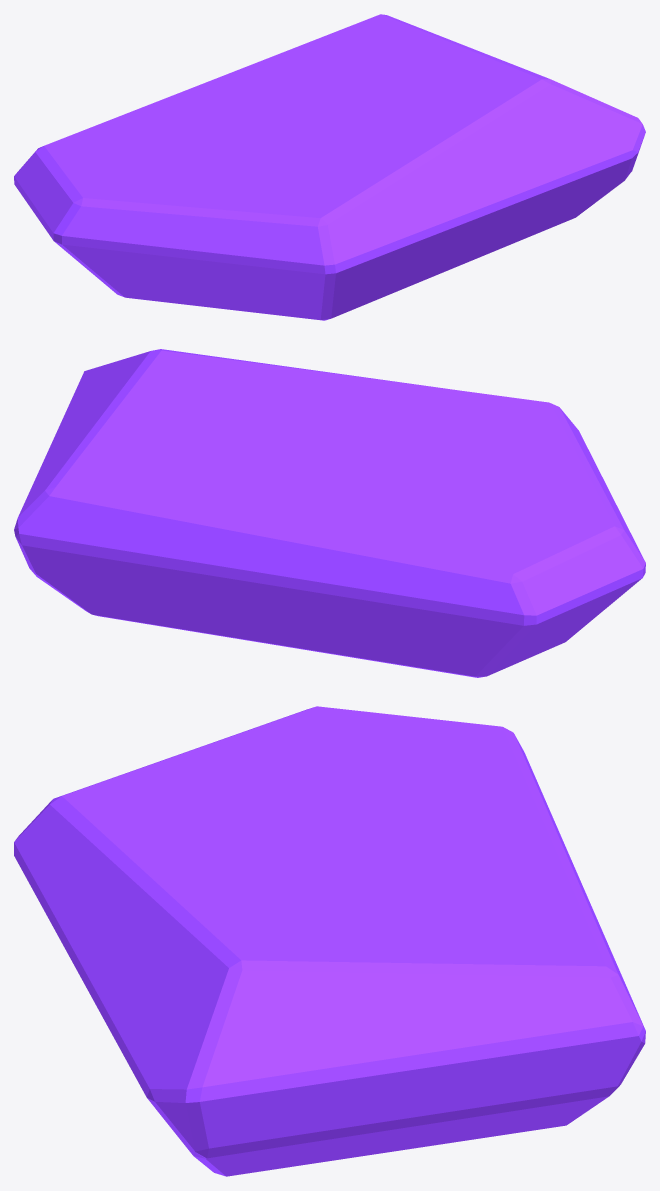
File: crystal_shard_03.glb
3 views of the same model, one above another, from view 1: azimuth 30°, elevation 25°; view 2: azimuth 150°, elevation 25°; view 3: azimuth 270°, elevation 25° (orthographic). The views are drawn at different scales.
Parts seen in each view (by area): view 1: crystal_shard_03; view 2: crystal_shard_03; view 3: crystal_shard_03.
Part boxes in pixels (box(x1,y1,x2,y2)): crystal_shard_03: box(14, 14, 645, 320); crystal_shard_03: box(14, 349, 645, 677); crystal_shard_03: box(14, 706, 645, 1176).
Size of the model in its own units: 0.5 by 0.1278 by 0.3515.
